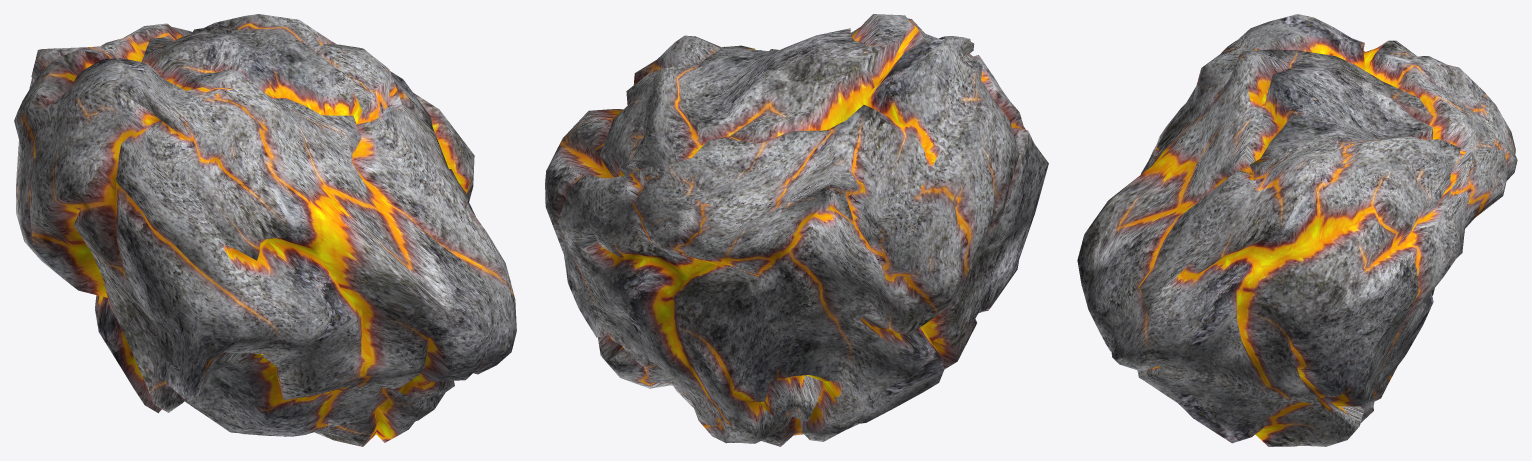
The model's file is Asteroid_09_L0.FBX.
3 views of the same model, side by side, from view 1: azimuth 30°, elevation 25°; view 2: azimuth 150°, elevation 25°; view 3: azimuth 270°, elevation 25° (orthographic). The views are drawn at different scales.
Parts seen in each view (by area): view 1: Asteroid; view 2: Asteroid; view 3: Asteroid.
Boxes of the visible parts, left/top/right/bottom form: Asteroid: left=14, top=14, right=516, bottom=446; Asteroid: left=545, top=14, right=1048, bottom=446; Asteroid: left=1077, top=14, right=1517, bottom=446.
Bounding box in the file's own units: 2.85 × 2.67 × 3.07.
